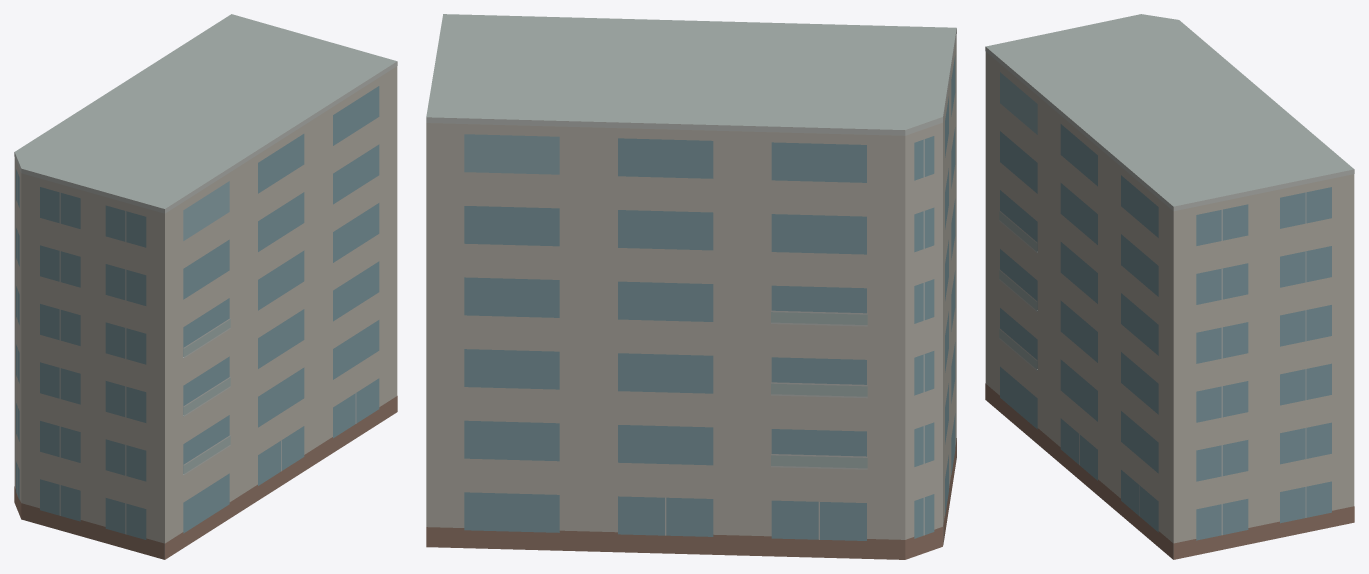
The model's file is survey-upis-33013937.glb.
3 views of the same model, side by side, from view 1: azimuth 30°, elevation 25°; view 2: azimuth 150°, elevation 25°; view 3: azimuth 270°, elevation 25° (orthographic). The views are drawn at different scales.
Visible parts, largest first — view 1: survey-upis-33013937.tmp; view 2: survey-upis-33013937.tmp; view 3: survey-upis-33013937.tmp.
Part boxes in pixels (<box>): survey-upis-33013937.tmp: <box>14,14,397,559</box>; survey-upis-33013937.tmp: <box>426,14,956,559</box>; survey-upis-33013937.tmp: <box>985,14,1354,559</box>.
Bounding box in the file's own units: 21.41 × 18.3 × 17.33.
